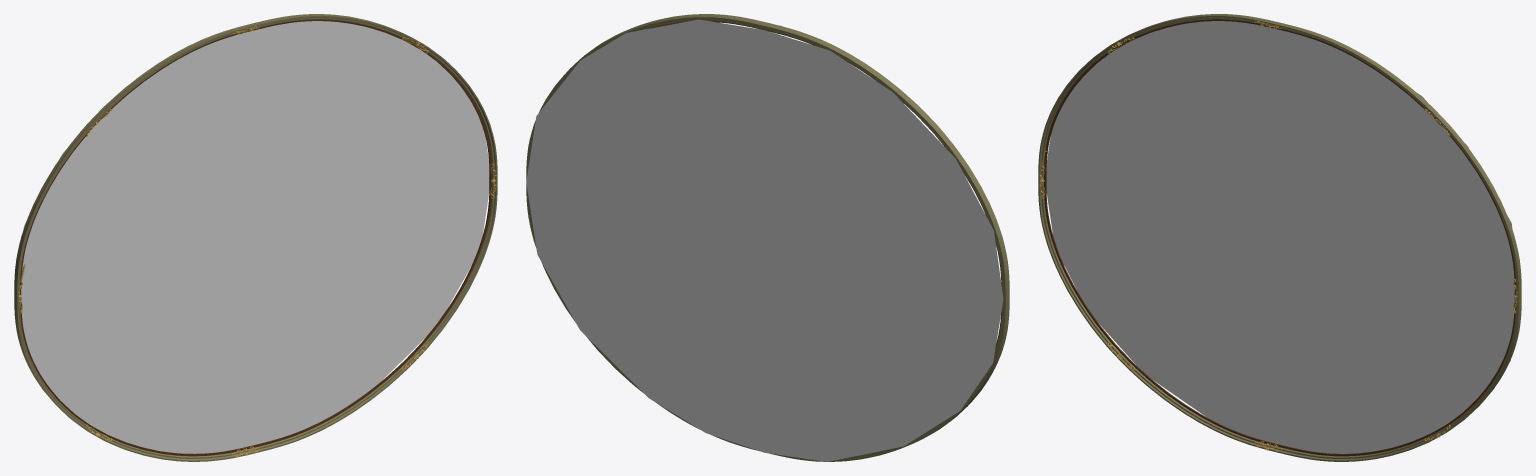
Rendered from 2lllll.glb.
The picture shows the model from 3 angles, left to right: view 1: azimuth 30°, elevation 25°; view 2: azimuth 150°, elevation 25°; view 3: azimuth 330°, elevation 25°; orthographic projection.
Parts seen in each view (by area): view 1: canvas_平面, frame_Cube.003, frame_inner_Cube.001; view 2: canvas_平面, frame_Cube.003; view 3: canvas_平面, frame_Cube.003, frame_inner_Cube.001.
Boxes of the visible parts, box(x1,y1,x2,y2) form: canvas_平面: box(21, 21, 489, 453); frame_Cube.003: box(14, 14, 497, 461); frame_inner_Cube.001: box(20, 19, 491, 456); canvas_平面: box(526, 19, 1003, 461); frame_Cube.003: box(526, 14, 1009, 461); canvas_平面: box(1046, 21, 1514, 453); frame_Cube.003: box(1038, 14, 1521, 461); frame_inner_Cube.001: box(1044, 19, 1515, 456).
Size of the model in its own units: 103 by 87.86 by 1.95.
